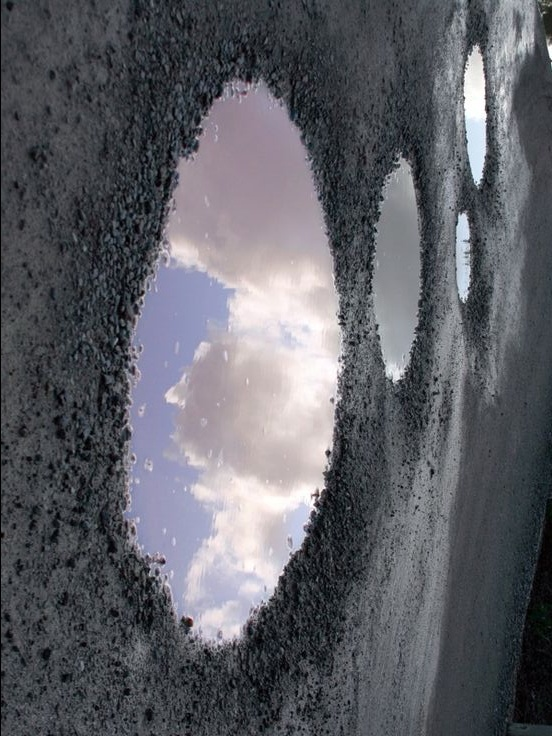pothole: (126, 50, 345, 679), (372, 154, 425, 386), (460, 34, 492, 198), (452, 210, 479, 311)
